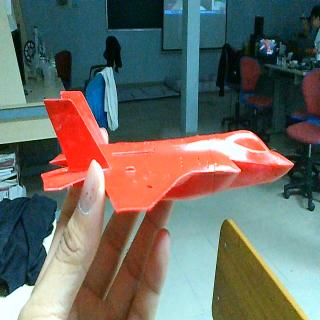Jet: (40, 88, 294, 215)
